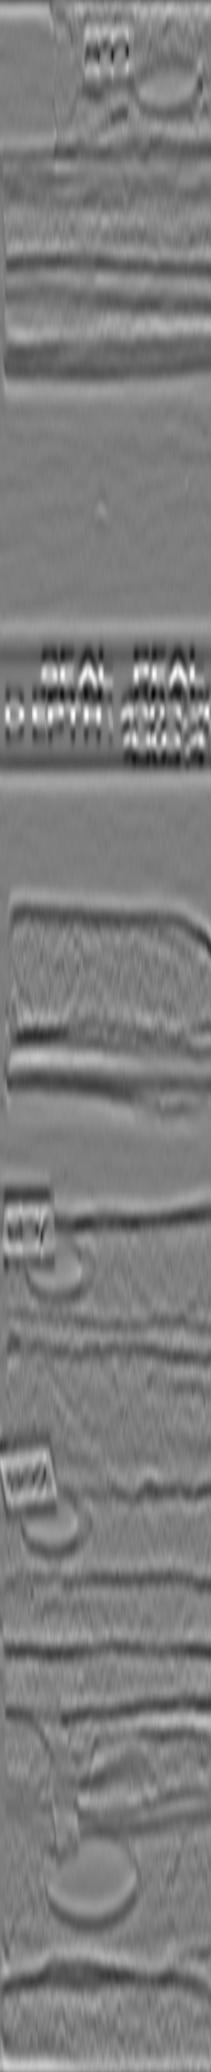hplug: (15, 1483, 99, 1569), (20, 1232, 105, 1313), (125, 45, 210, 126)
scal: (38, 1828, 148, 1939)
vplug: (1, 5, 88, 169), (129, 1220, 206, 1386)
